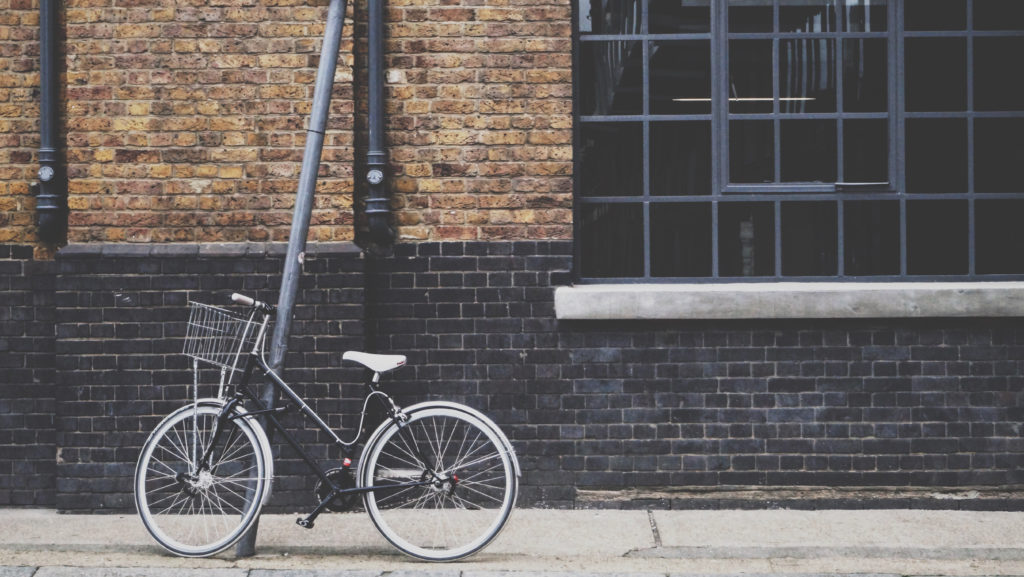bike: (134, 278, 548, 571)
